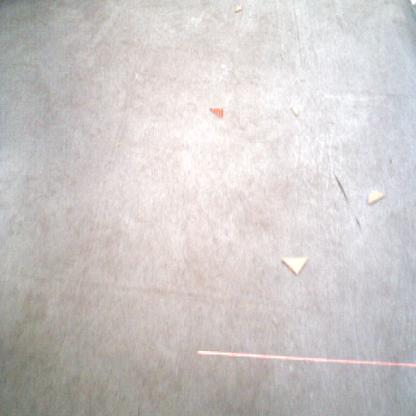dirty: (281, 256, 307, 276), (367, 188, 386, 205), (209, 106, 224, 119), (290, 105, 300, 118), (233, 4, 242, 14)
mark: (332, 172, 349, 202), (353, 215, 362, 230), (278, 52, 285, 63), (387, 157, 394, 166), (136, 404, 141, 415)
